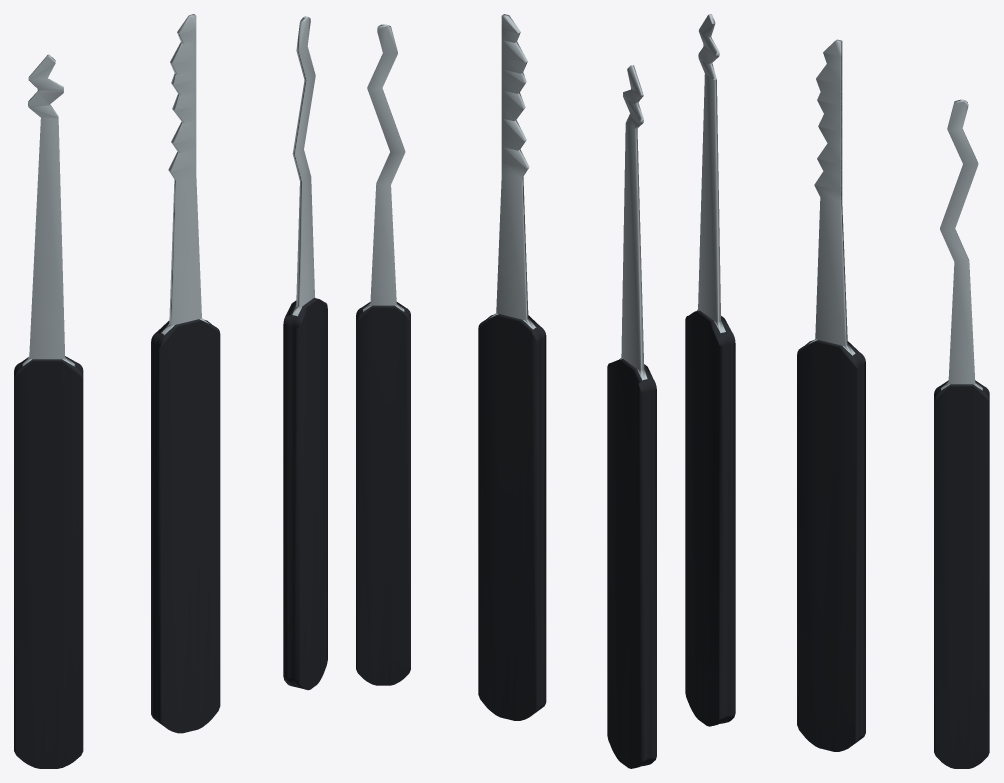
The model's file is Lockpick.fbx.
3 views of the same model, side by side, from view 1: azimuth 30°, elevation 25°; view 2: azimuth 150°, elevation 25°; view 3: azimuth 330°, elevation 25° (orthographic).
Parts seen in each view (by area): view 1: Lockpick; view 2: Lockpick; view 3: Lockpick.
Boxes of the visible parts, bbox=[...] form: Lockpick: bbox=[14, 14, 327, 768]; Lockpick: bbox=[356, 14, 656, 768]; Lockpick: bbox=[685, 14, 989, 768].
Size of the model in its own units: 84.25 by 188 by 12.13.
